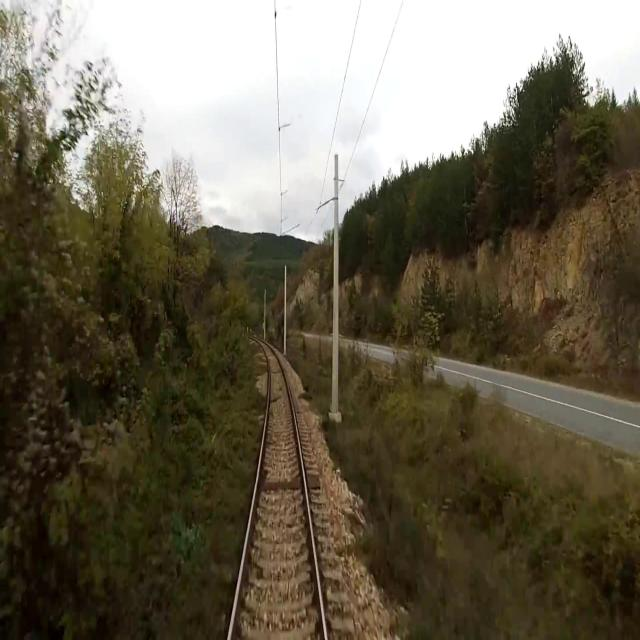rail-track: (231, 344, 323, 639)
